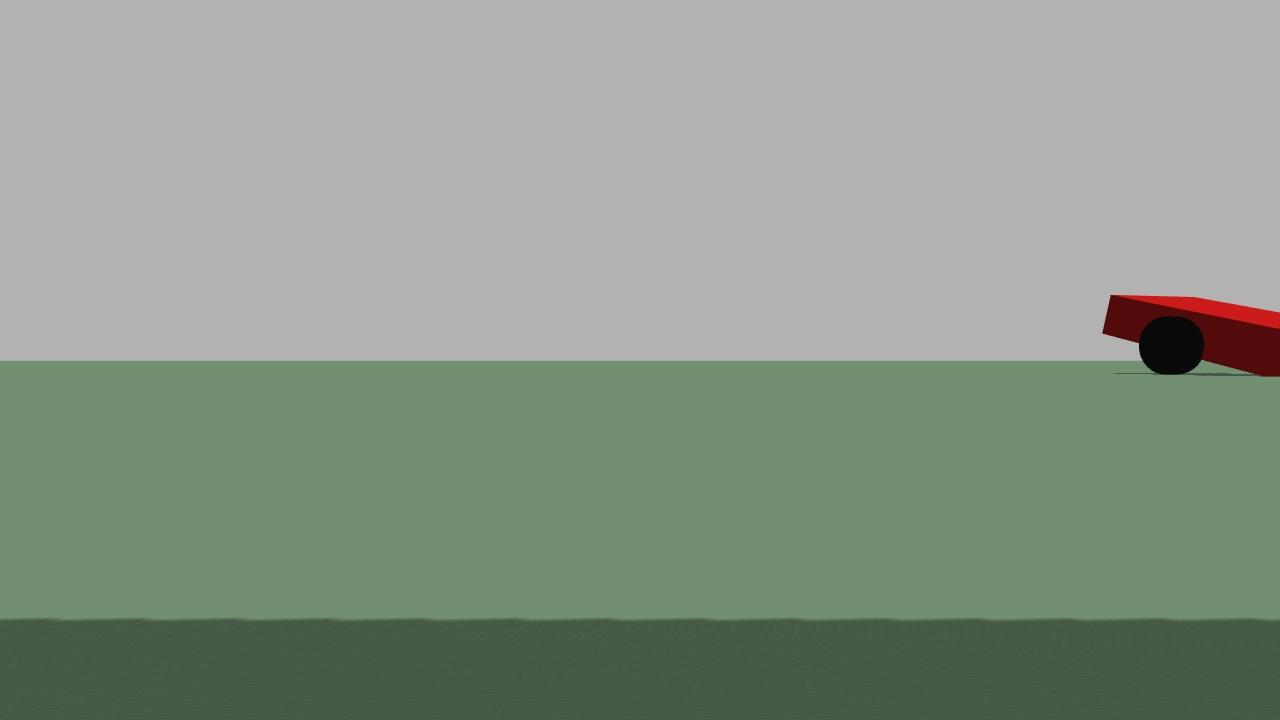ground_vehicle: (1081, 264, 1280, 421)
